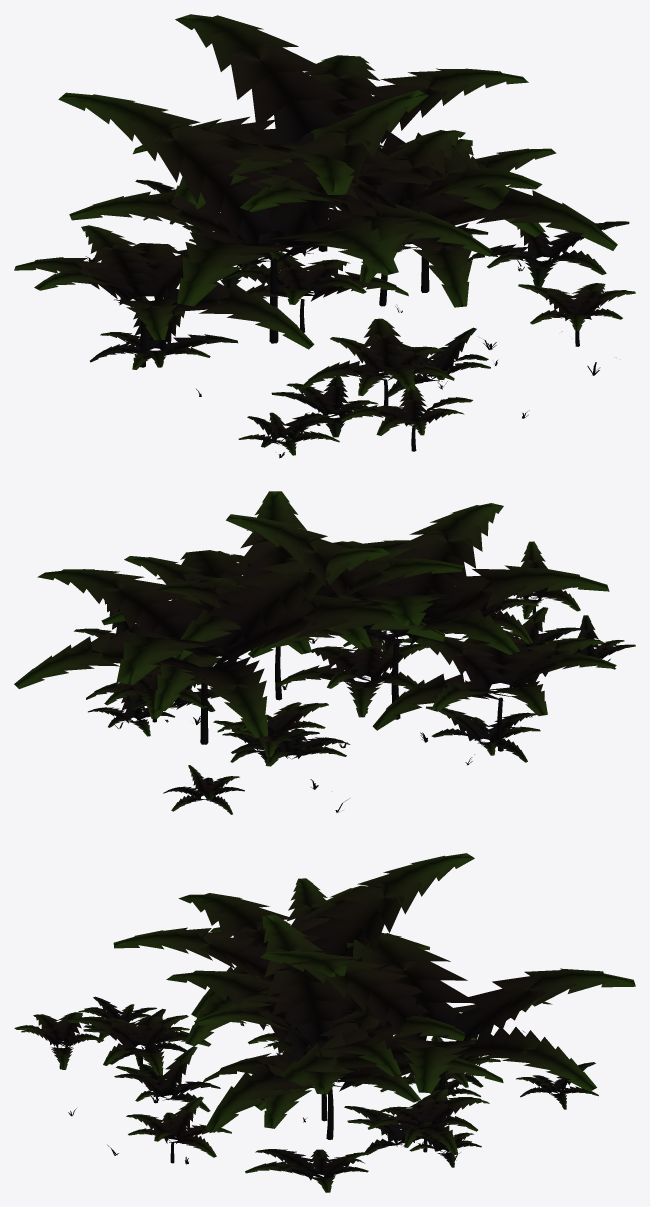
Rendered from patch_palm.glb.
3 views of the same model, one above another, from view 1: azimuth 30°, elevation 25°; view 2: azimuth 150°, elevation 25°; view 3: azimuth 270°, elevation 25° (orthographic). The views are drawn at different scales.
Parts seen in each view (by area): view 1: patch_palm; view 2: patch_palm; view 3: patch_palm.
Part boxes in pixels (x1=…): patch_palm: x1=14, y1=14, x2=635, y2=458; patch_palm: x1=14, y1=491, x2=635, y2=814; patch_palm: x1=14, y1=853, x2=635, y2=1192.
Bounding box in the file's own units: 13.31 × 4.46 × 14.66.
Materials: 1 (1 with a texture image).
